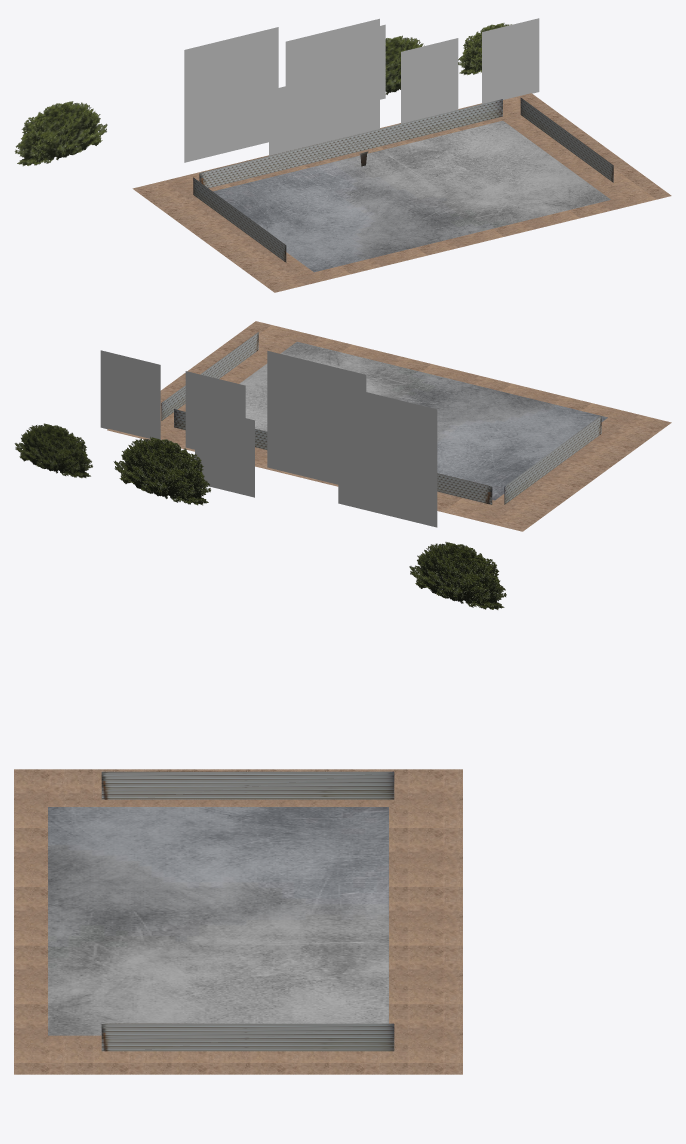
Rendered from court-model.obj.
3 renders of one model, top to bottom at view 1: azimuth 30°, elevation 25°; view 2: azimuth 150°, elevation 25°; view 3: azimuth 270°, elevation 25°, orthographic. The views are drawn at different scales.
Visible parts, largest first — view 1: Court_Plane, Plane_Plane.002, Tree.002_Plane.006, Tree.001_Plane.005, Fence.002_Plane.008, Tree.003_Plane.014, Tree_Plane.001, Bush_Plane.007, Tree.005_Plane.012, Fence.001_Plane.004, Fence_Plane.003, Bush.001_Plane.013 (+2 smaller); view 2: Court_Plane, Plane_Plane.002, Tree.002_Plane.006, Tree.001_Plane.005, Tree.003_Plane.014, Tree.004_Plane.011, Bush_Plane.007, Bush.001_Plane.013, Bush.002_Plane.015, Tree_Plane.001, Fence_Plane.003, Fence.002_Plane.008 (+1 smaller); view 3: Court_Plane, Plane_Plane.002, Fence_Plane.003, Fence.001_Plane.004.
Part boxes in pixels (x1,y1,x2,y2): Court_Plane: [213, 120, 610, 272]; Plane_Plane.002: [132, 93, 671, 292]; Tree.002_Plane.006: [184, 27, 278, 162]; Tree.001_Plane.005: [285, 18, 379, 141]; Fence.002_Plane.008: [199, 99, 502, 188]; Tree.003_Plane.014: [482, 18, 539, 103]; Tree_Plane.001: [401, 38, 458, 123]; Bush_Plane.007: [14, 101, 107, 166]; Tree.005_Plane.012: [269, 76, 326, 155]; Fence.001_Plane.004: [520, 97, 613, 182]; Fence_Plane.003: [193, 177, 286, 262]; Bush.001_Plane.013: [385, 35, 424, 94]; Court_Plane: [239, 341, 607, 500]; Plane_Plane.002: [107, 321, 671, 531]; Tree.002_Plane.006: [338, 385, 437, 527]; Tree.001_Plane.005: [267, 350, 366, 484]; Tree.003_Plane.014: [100, 350, 160, 439]; Tree.004_Plane.011: [195, 406, 254, 497]; Bush_Plane.007: [409, 542, 506, 609]; Bush.001_Plane.013: [113, 436, 210, 505]; Bush.002_Plane.015: [14, 423, 92, 478]; Tree_Plane.001: [185, 371, 245, 449]; Fence_Plane.003: [504, 415, 601, 504]; Fence.002_Plane.008: [174, 409, 492, 504]; Court_Plane: [48, 807, 388, 1035]; Plane_Plane.002: [14, 769, 462, 1074]; Fence_Plane.003: [101, 771, 394, 799]; Fence.001_Plane.004: [101, 1023, 394, 1051].
Bounding box in the file's own units: 56.92 × 14.44 × 41.59.
